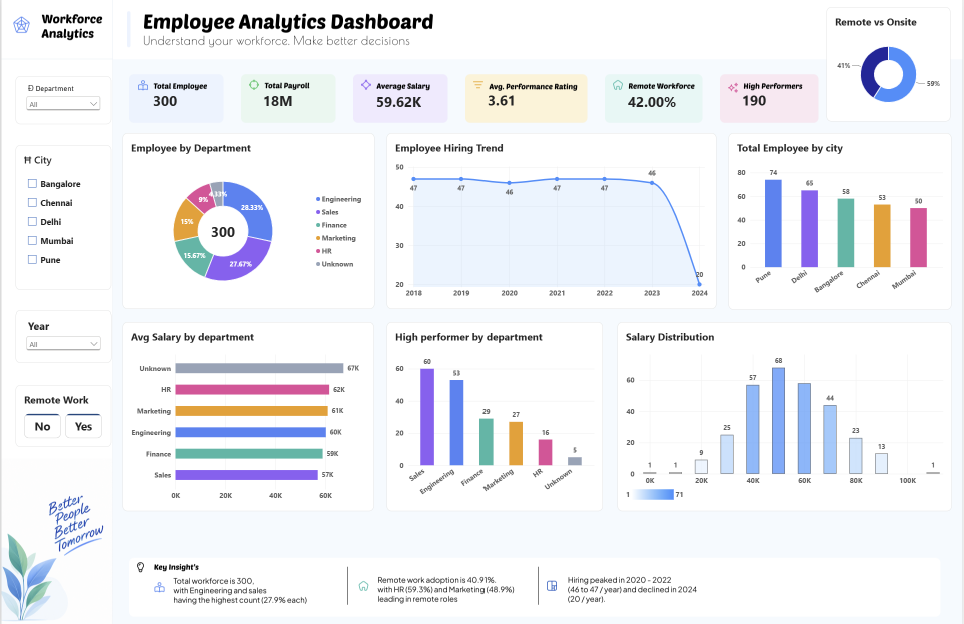

The page's visual inventory and layout, read from the dashboard file:
{"tool":"powerbi","page":{"name":"Page 1","canvas":[1920,1250],"ordinal":0},"visuals":[{"type":"image","box":[0,0,1920,1250.7],"z":0},{"type":"cardVisual","fields":{"Data":["Employees_raw_Data_csv.Total Employee"]},"box":[298,174,84,54],"z":1000},{"type":"cardVisual","fields":{"Data":["Employees_raw_Data_csv.Total Payout"]},"box":[518,166,132,70],"z":2000},{"type":"cardVisual","fields":{"Data":["Employees_raw_Data_csv.Avg Salary"]},"box":[744,160,140,86],"z":3000},{"type":"cardVisual","fields":{"Data":["Employees_raw_Data_csv.Avg Performance Rating"]},"box":[966.9,156.9,153.8,88.8],"z":4000},{"type":"cardVisual","fields":{"Data":["Employees_raw_Data_csv.Remote Workforce"]},"box":[1246.7,150,155,106.7],"z":5000},{"type":"cardVisual","fields":{"Data":["Employees_raw_Data_csv.High performer"]},"box":[1473.6,164.5,142.7,73.6],"z":6000},{"type":"donutChart","title":"Employee by Department","fields":{"Category":["Employees_raw_Data_csv.department"],"Y":["Employees_raw_Data_csv.Total Employee"]},"box":[242,268,504,352],"z":7000},{"type":"areaChart","title":"Employee Hiring Trend","fields":{"Category":["Employees_raw_Data_csv.join_date.Variation.Date Hierarchy.Year"],"Y":["Employees_raw_Data_csv.Total Hire"]},"box":[770,268,658,352],"z":8000},{"type":"columnChart","fields":{"Category":["Employees_raw_Data_csv.city"],"Y":["Employees_raw_Data_csv.Total Employee"]},"box":[1451,267.1,445.8,353.3],"z":9000},{"type":"clusteredBarChart","fields":{"Category":["Employees_raw_Data_csv.department"],"Y":["Employees_raw_Data_csv.Avg Salary"]},"box":[241.8,643.5,502.6,378.5],"z":10000},{"type":"columnChart","fields":{"Category":["Employees_raw_Data_csv.department"],"Y":["Employees_raw_Data_csv.High performer"]},"box":[769.7,643.5,431.1,378.5],"z":11000},{"type":"columnChart","title":"Salary Distribution","fields":{"Category":["Employees_raw_Data_csv.salary (bins)"],"Y":["Employees_raw_Data_csv.Total Employee"]},"box":[1230.2,643.5,668.7,378.5],"z":12000},{"type":"pieChart","title":"Remote vs Onsite","fields":{"Category":["Employees_raw_Data_csv.remote_work"],"Y":["Employees_raw_Data_csv.Total Employee"]},"box":[1648.7,16.8,248.1,229.2],"z":12001},{"type":"slicer","fields":{"Values":["Employees_raw_Data_csv.department"]},"box":[14,154,191.4,96.7],"z":12002},{"type":"advancedSlicerVisual","title":"Remote Work","fields":{"Values":["Employees_raw_Data_csv.remote_work"]},"box":[14,770,191.4,124.1],"z":12003},{"type":"slicer","title":"Ħ City","fields":{"Values":["Employees_raw_Data_csv.city"]},"box":[14,298,191.4,290.2],"z":12004},{"type":"slicer","fields":{"Values":["Employees_raw_Data_csv.join_date.Variation.Date Hierarchy.Year"]},"box":[14,622,192,104],"z":12005}]}

Visuals, with their boxes in screenshot pixels (x1, y1, x2, y2), scaled from the page's 1920x1250 canvas onto the 964x624 screenshot:
image: [0,0,963,623]
cardVisual - Employees_raw_Data_csv.Total Employee: [150,87,192,114]
cardVisual - Employees_raw_Data_csv.Total Payout: [260,83,326,118]
cardVisual - Employees_raw_Data_csv.Avg Salary: [374,80,444,123]
cardVisual - Employees_raw_Data_csv.Avg Performance Rating: [485,78,563,123]
cardVisual - Employees_raw_Data_csv.Remote Workforce: [626,75,704,128]
cardVisual - Employees_raw_Data_csv.High performer: [740,82,812,119]
"Employee by Department" donutChart: [122,134,375,310]
"Employee Hiring Trend" areaChart: [387,134,717,310]
columnChart - Employees_raw_Data_csv.city x Employees_raw_Data_csv.Total Employee: [729,133,952,310]
clusteredBarChart - Employees_raw_Data_csv.department x Employees_raw_Data_csv.Avg Salary: [121,321,374,510]
columnChart - Employees_raw_Data_csv.department x Employees_raw_Data_csv.High performer: [386,321,603,510]
"Salary Distribution" columnChart: [618,321,953,510]
"Remote vs Onsite" pieChart: [828,8,952,123]
slicer - Employees_raw_Data_csv.department: [7,77,103,125]
"Remote Work" advancedSlicerVisual: [7,384,103,446]
"Ħ City" slicer: [7,149,103,294]
slicer - Employees_raw_Data_csv.join_date.Variation.Date Hierarchy.Year: [7,311,103,362]
